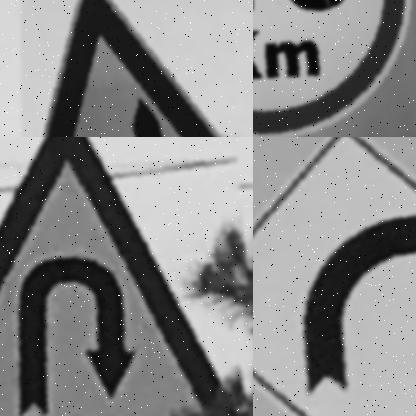Right bend: (253, 137, 416, 416)
Speed Limit (20 kmph): (253, 0, 416, 137)
Zigzag Road Ahead: (52, 0, 221, 137)
